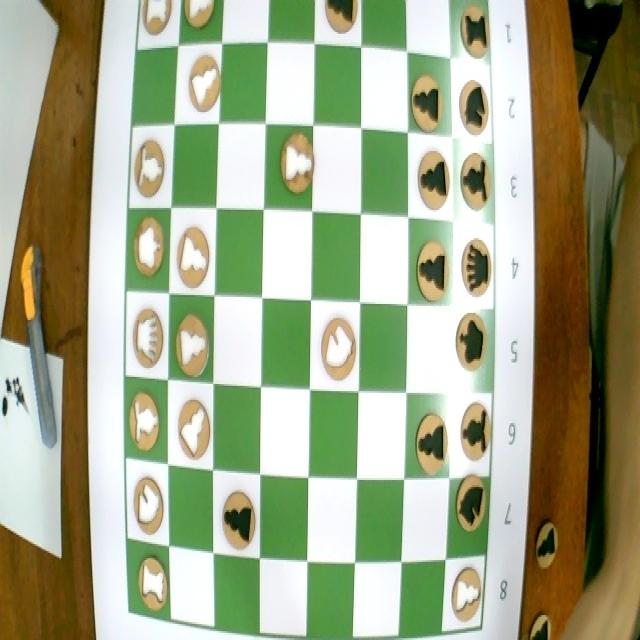chess-pieces: (181, 49, 225, 120), (216, 484, 258, 558), (276, 126, 316, 202), (172, 309, 212, 384), (319, 310, 357, 388), (405, 71, 446, 140), (174, 393, 212, 466), (127, 307, 167, 374), (129, 464, 165, 538), (175, 218, 211, 290), (132, 131, 168, 201), (131, 212, 166, 283), (456, 147, 494, 212), (136, 545, 170, 616), (414, 412, 448, 479), (460, 229, 492, 299), (452, 473, 488, 535), (416, 236, 450, 301), (418, 145, 450, 214), (448, 560, 483, 623), (454, 312, 489, 374), (455, 76, 491, 136), (127, 389, 161, 452), (458, 400, 492, 462), (458, 5, 491, 62), (140, 0, 174, 33)
